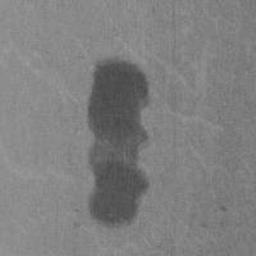Oil spot: (87, 60, 151, 228)
